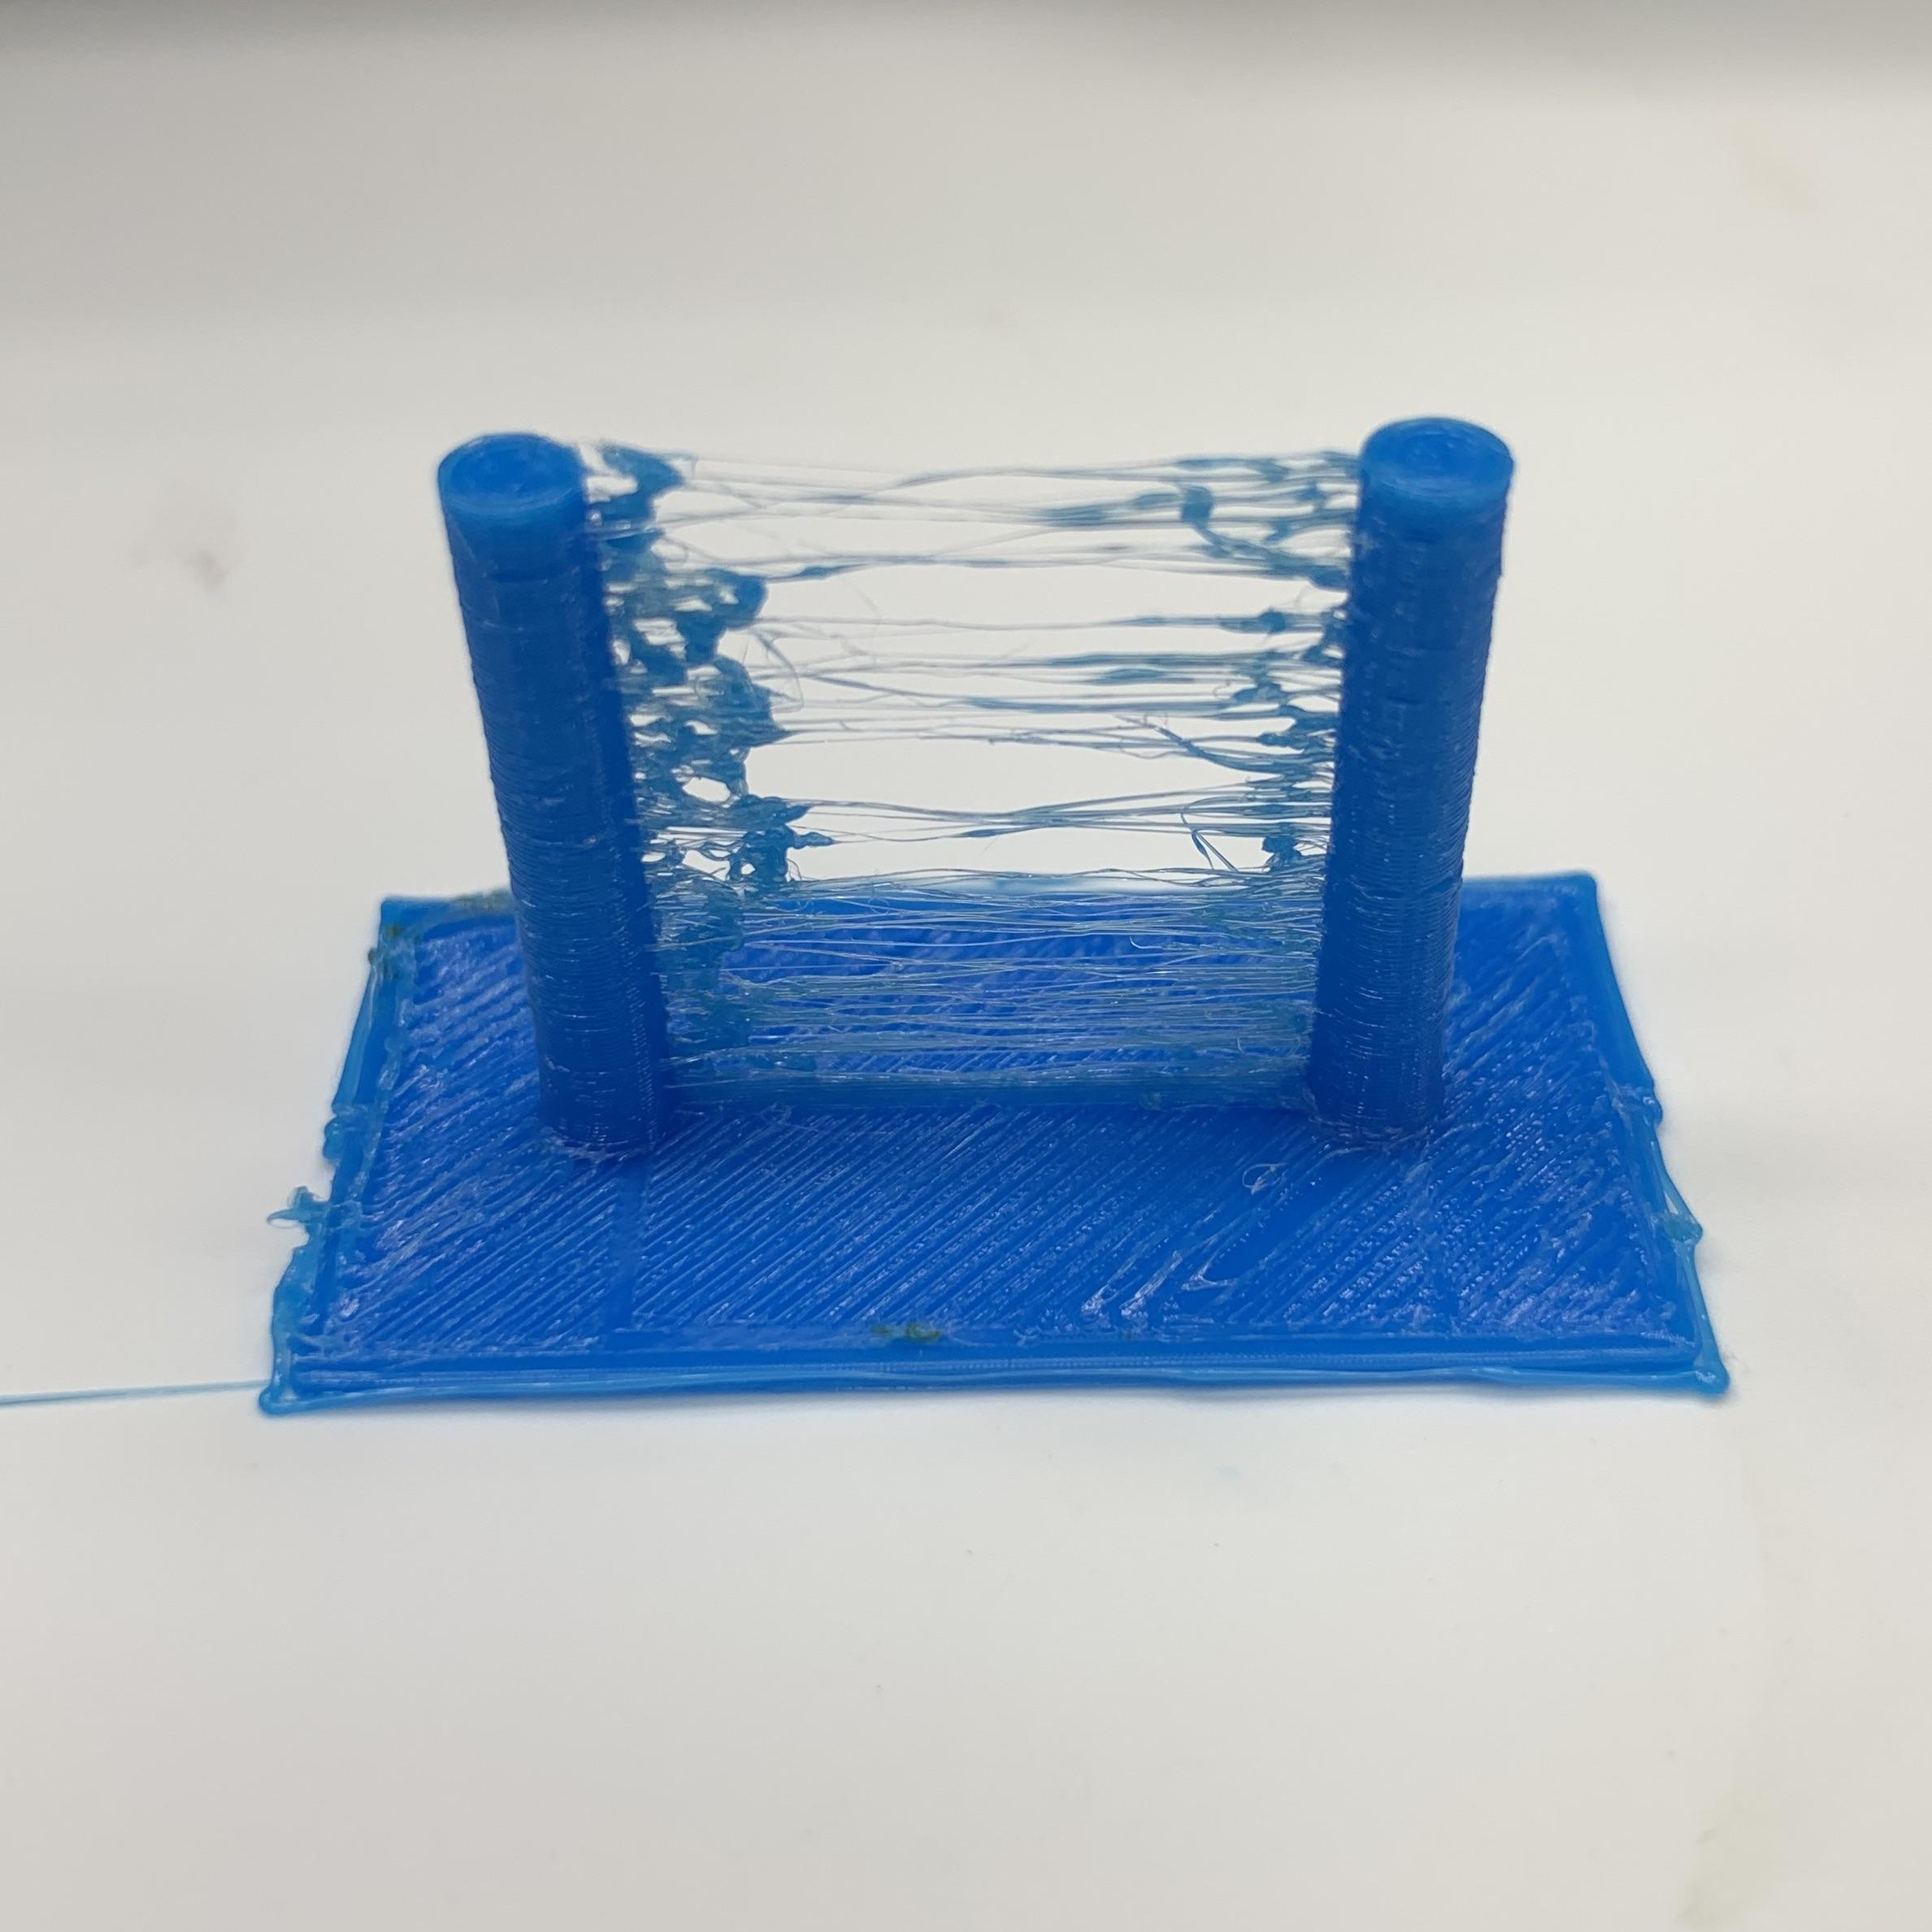Stringing or Oozing: (619, 444, 1385, 1129)
